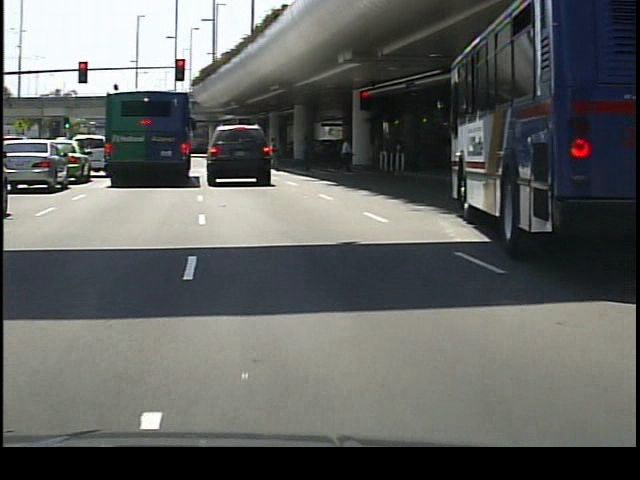person: (293, 133, 315, 176), (333, 134, 353, 172)
